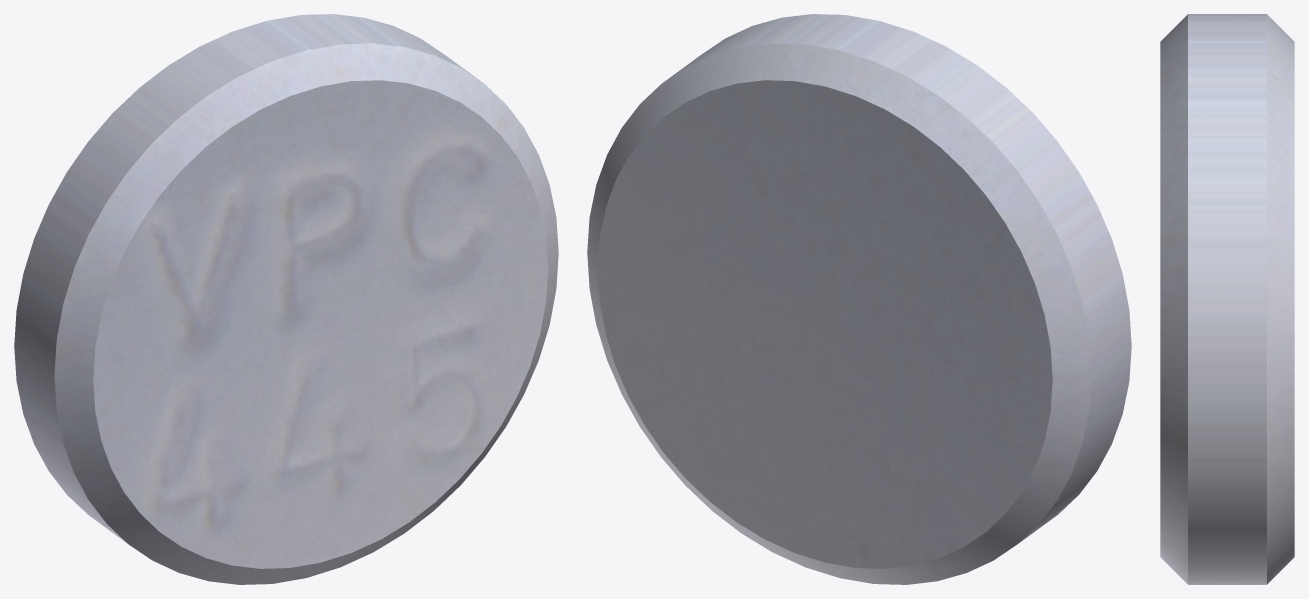
Rendered from 20180412GOPHDRGPT07616.fbx.
The picture shows the model from 3 angles, left to right: view 1: azimuth 30°, elevation 25°; view 2: azimuth 150°, elevation 25°; view 3: azimuth 270°, elevation 25°; orthographic projection.
Visible parts, largest first — view 1: BezierCircle; view 2: BezierCircle; view 3: BezierCircle.
Part boxes in pixels (x1,y1,x2,y2): BezierCircle: [14, 14, 558, 584]; BezierCircle: [587, 14, 1131, 584]; BezierCircle: [1160, 14, 1294, 584].
Bounding box in the file's own units: 0.9607 × 0.9607 × 0.2263.
Materials: 1 (1 with a texture image).
